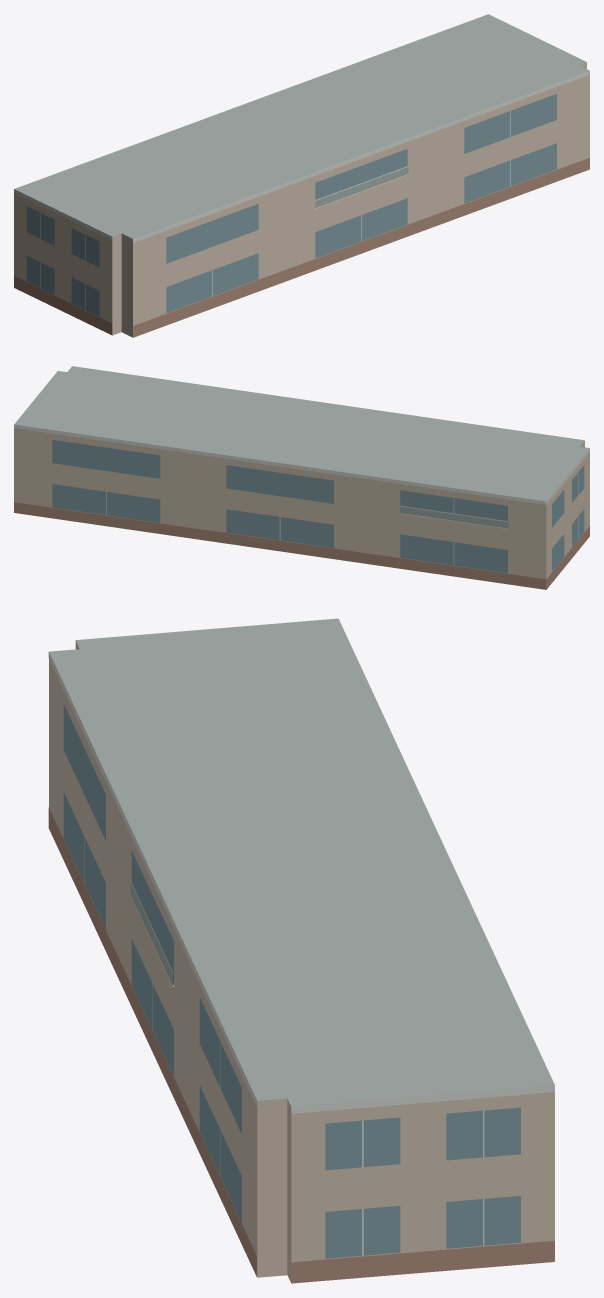
The model's file is survey-upis-32708436.glb.
3 renders of one model, top to bottom at view 1: azimuth 30°, elevation 25°; view 2: azimuth 150°, elevation 25°; view 3: azimuth 270°, elevation 25°, orthographic. The views are drawn at different scales.
Parts seen in each view (by area): view 1: survey-upis-32708436.tmp; view 2: survey-upis-32708436.tmp; view 3: survey-upis-32708436.tmp.
Part boxes in pixels (x1=…): survey-upis-32708436.tmp: x1=14, y1=14, x2=589, y2=337; survey-upis-32708436.tmp: x1=14, y1=366, x2=589, y2=589; survey-upis-32708436.tmp: x1=48, y1=618, x2=554, y2=1283.
Bounding box in the file's own units: 36.17 × 6.1 × 15.85.
